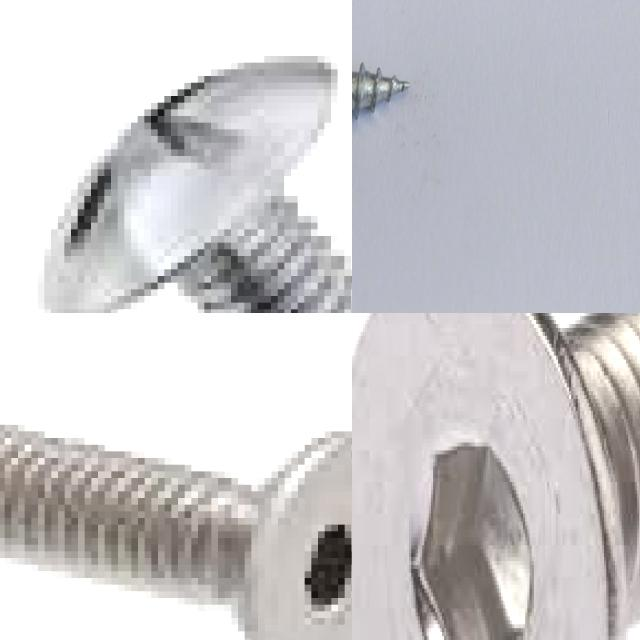Screw: (352, 313, 640, 640), (38, 56, 352, 313), (0, 424, 352, 640), (352, 62, 409, 117)
